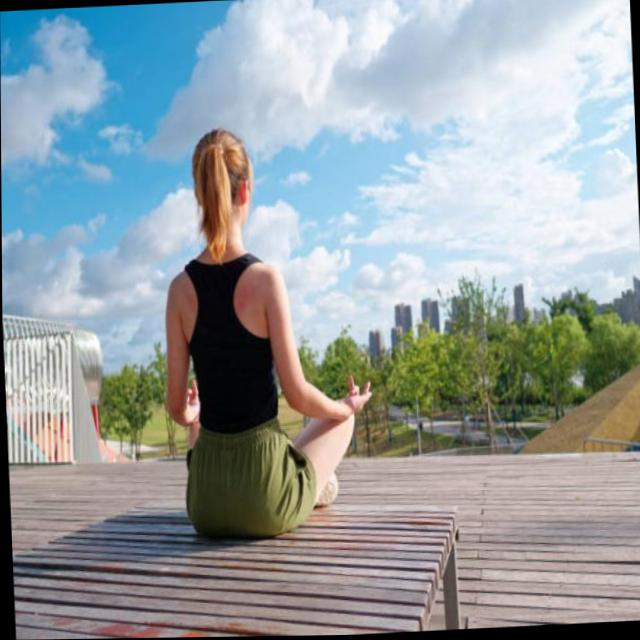no helmet: (183, 123, 258, 246)
